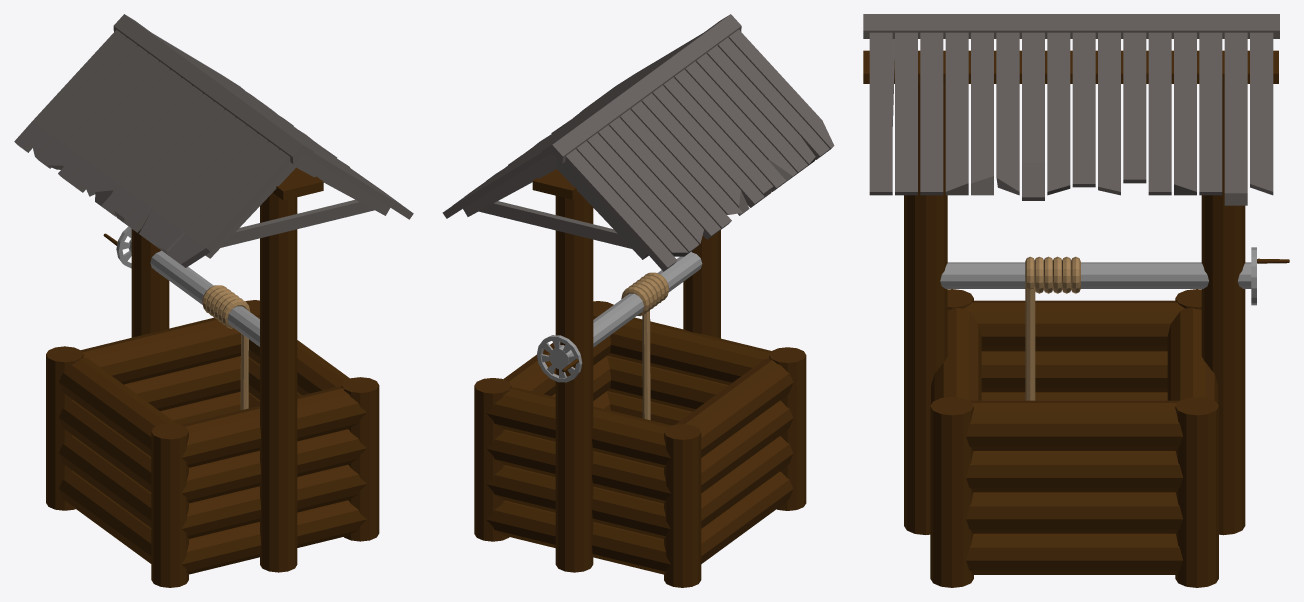
Rendered from Колодец.fbx.
The picture shows the model from 3 angles, left to right: view 1: azimuth 30°, elevation 25°; view 2: azimuth 150°, elevation 25°; view 3: azimuth 270°, elevation 25°; orthographic projection. The views are drawn at different scales.
Parts seen in each view (by area): view 1: Cylinder, Крыша, Cylinder.003, Torus, Cube; view 2: Cylinder, Крыша, Cylinder.003, Torus, Circle, Cube; view 3: Cylinder, Крыша, Cylinder.003, Torus, Cube.
Boxes of the visible parts, bbox=[...] form: Cylinder: bbox=[46, 193, 379, 587]; Крыша: bbox=[14, 14, 413, 267]; Cylinder.003: bbox=[128, 239, 259, 346]; Torus: bbox=[202, 285, 250, 410]; Cube: bbox=[273, 167, 323, 200]; Cylinder: bbox=[474, 194, 806, 587]; Крыша: bbox=[442, 14, 834, 271]; Cylinder.003: bbox=[549, 251, 702, 369]; Torus: bbox=[621, 272, 668, 420]; Circle: bbox=[537, 335, 582, 382]; Cube: bbox=[532, 169, 579, 199]; Cylinder: bbox=[904, 84, 1245, 587]; Крыша: bbox=[863, 14, 1279, 205]; Cylinder.003: bbox=[940, 262, 1251, 288]; Torus: bbox=[1025, 256, 1080, 400]; Cube: bbox=[863, 50, 1278, 83].
Size of the model in its own units: 181 by 334 by 253.
